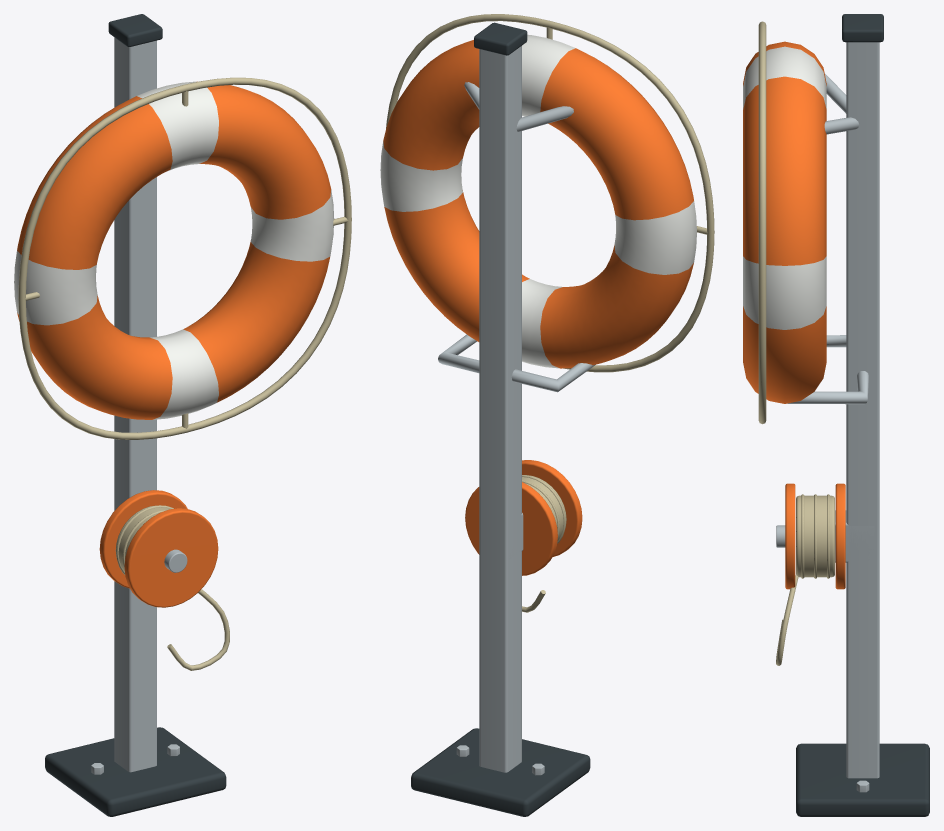
The model's file is city-lifebuoy-station.glb.
The picture shows the model from 3 angles, left to right: view 1: azimuth 30°, elevation 25°; view 2: azimuth 150°, elevation 25°; view 3: azimuth 270°, elevation 25°; orthographic projection. The views are drawn at different scales.
Parts seen in each view (by area): view 1: Thick rescue ring, Station support post, Perimeter grab rope, Rescue station foot, Throwline reel front flange, Throwline reel rear flange, Post weather cap, Throwline loose tail, Throwline cord spool; view 2: Thick rescue ring, Station support post, Rescue station foot, Perimeter grab rope, Throwline reel rear flange, Throwline reel front flange, Post weather cap, Lower ring cradle hook, Lower ring cradle hook.001, Upper ring backing brace, Throwline cord spool; view 3: Thick rescue ring, Station support post, Rescue station foot, Perimeter grab rope, Throwline cord spool, Post weather cap, Throwline reel rear flange, Throwline reel front flange, Lower ring cradle hook.001, Reel mounting stand-off, Throwline loose tail, Upper ring backing brace.001 (+1 smaller).
Part boxes in pixels (bbox=[...]): Thick rescue ring: bbox=[14, 81, 334, 419]; Station support post: bbox=[114, 37, 156, 772]; Perimeter grab rope: bbox=[18, 77, 351, 439]; Rescue station foot: bbox=[45, 727, 226, 816]; Throwline reel front flange: bbox=[124, 508, 218, 607]; Throwline reel rear flange: bbox=[99, 490, 187, 588]; Post weather cap: bbox=[108, 14, 162, 46]; Throwline loose tail: bbox=[167, 589, 229, 670]; Throwline cord spool: bbox=[115, 505, 170, 571]; Thick rescue ring: bbox=[380, 34, 696, 368]; Station support post: bbox=[479, 46, 521, 772]; Rescue station foot: bbox=[411, 728, 590, 816]; Perimeter grab rope: bbox=[386, 14, 714, 372]; Throwline reel rear flange: bbox=[465, 482, 557, 575]; Throwline reel front flange: bbox=[522, 460, 582, 557]; Post weather cap: bbox=[474, 22, 527, 55]; Lower ring cradle hook: bbox=[511, 363, 595, 392]; Lower ring cradle hook.001: bbox=[438, 334, 479, 373]; Upper ring backing brace: bbox=[516, 106, 573, 131]; Throwline cord spool: bbox=[522, 475, 566, 540]; Thick rescue ring: bbox=[743, 41, 826, 403]; Station support post: bbox=[846, 42, 879, 778]; Rescue station foot: bbox=[796, 743, 929, 816]; Perimeter grab rope: bbox=[758, 21, 766, 424]; Throwline cord spool: bbox=[796, 495, 834, 577]; Post weather cap: bbox=[842, 14, 883, 42]; Throwline reel rear flange: bbox=[835, 483, 845, 589]; Throwline reel front flange: bbox=[785, 483, 795, 589]; Lower ring cradle hook.001: bbox=[787, 371, 869, 404]; Reel mounting stand-off: bbox=[835, 510, 874, 562]; Throwline loose tail: bbox=[776, 575, 798, 665]; Upper ring backing brace.001: bbox=[824, 117, 859, 134].
Bounding box in the file's own units: 0.698 × 1.52 × 0.335.
